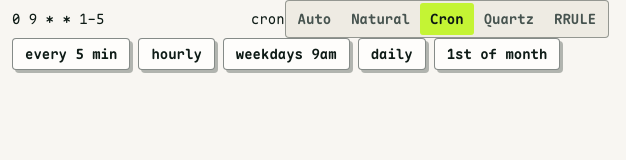
Test case: ScheduleSyntaxToggle › switching to Auto keeps the text and never warns
What coordinates should you click on to do the following:
click the radio button labelled "Auto"
I would click on:
 (314, 19)
Its box is [298,10,331,28].
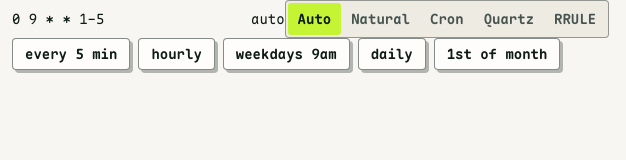
Expected: the field named "expr" holds "0 9 * * 1-5", [12,8,251,31]
Expected: the text named "mode" reads "auto", [251,10,285,28]
